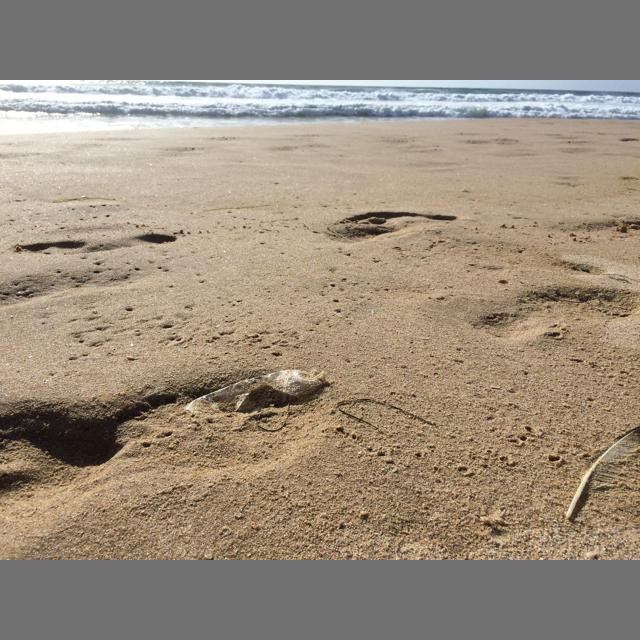litter: (185, 368, 325, 412)
